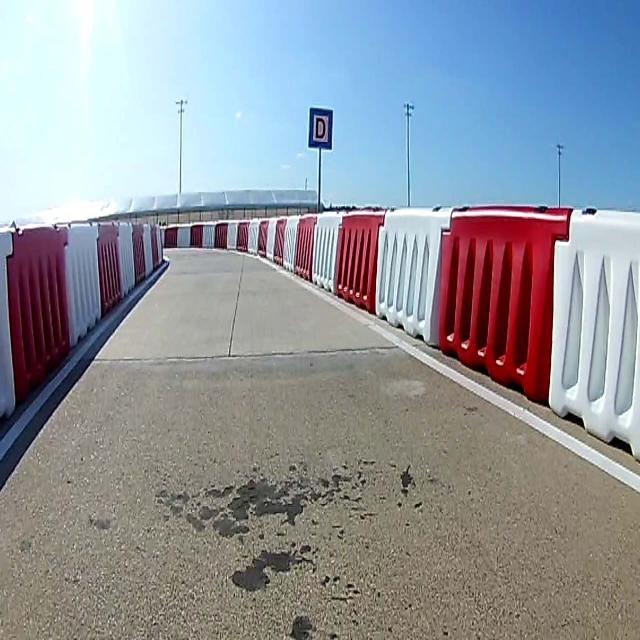durak: (309, 107, 333, 149)
